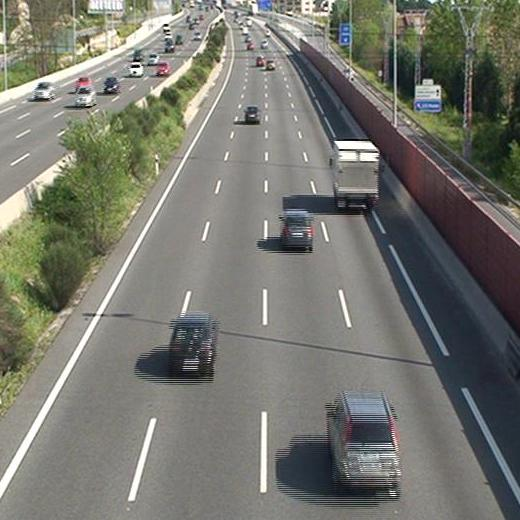car: (326, 394, 400, 487), (169, 317, 214, 374), (282, 211, 313, 248), (244, 106, 260, 122), (266, 59, 276, 71), (255, 56, 265, 66)
small-truck: (332, 140, 379, 208)
